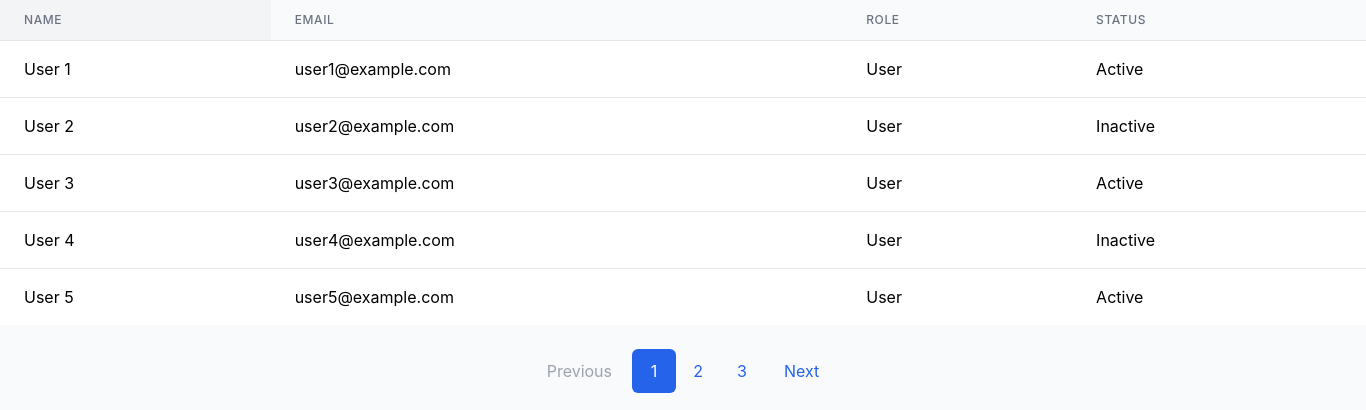
ResponsiveTable Component › handles pagination
expect the button "Previous" is shown: met, box [535,349,624,393]
expect the text "User 1" is shown: met, box [0,40,271,98]
Click the button "Next" at x=802, y=371, box [772,349,831,393]
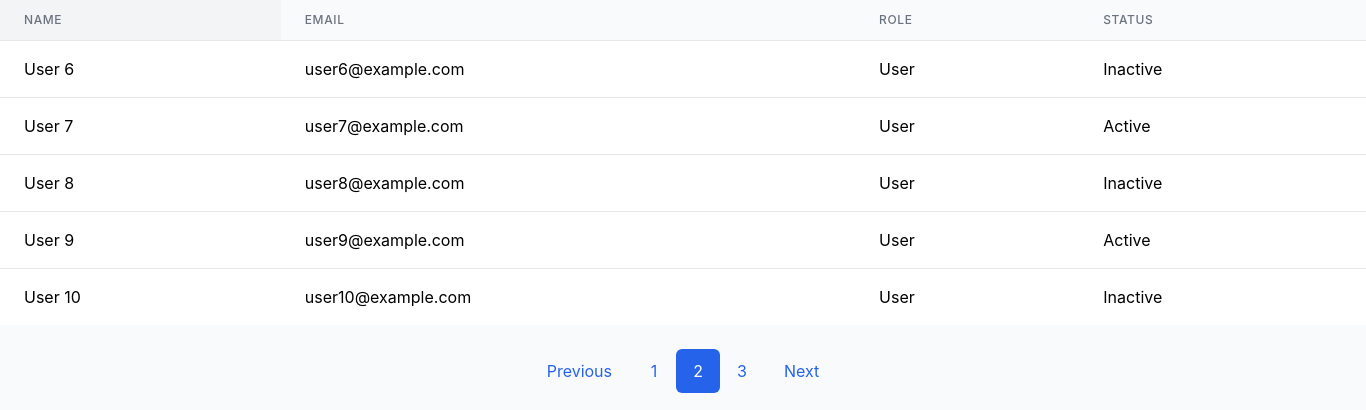
expect the text "User 6" is shown: met, box [0,40,281,98]
expect the text "User 10" is shown: met, box [0,268,281,325]
